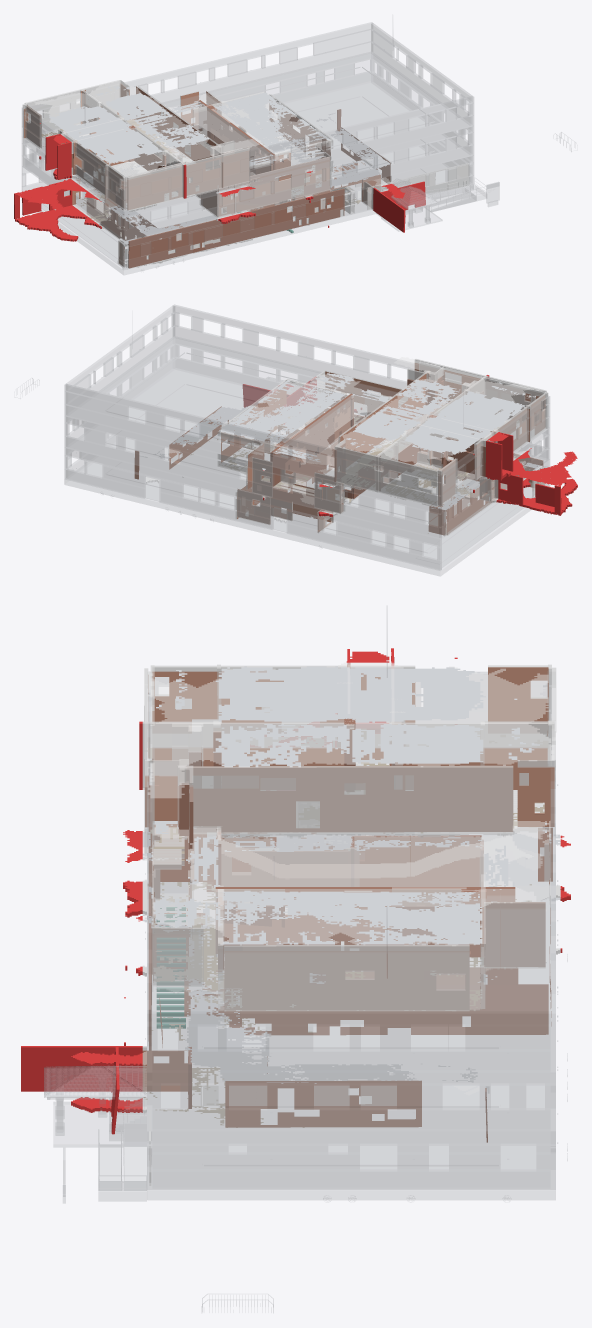
The model's file is volumen.glb.
The picture shows the model from 3 angles, top to bottom: view 1: azimuth 30°, elevation 25°; view 2: azimuth 150°, elevation 25°; view 3: azimuth 270°, elevation 25°; orthographic projection. The views are drawn at different scales.
Parts seen in each view (by area): view 1: Maqueta_Warm lime-painted plaster, Maqueta_V014 muted interior floor, C_CieloRaso_medido, A_Muro_M03_1_cuerpo, C_CieloRaso_supuesto, C_Muro_M07_0_cuerpo_supuesto, B_CieloRaso_zona2_supuesto, B_Muro_M13_0_cuerpo_supuesto, B_CieloRaso_zona2_medido, C_Muro_M07_0_cara_medida, B_Muro_M13_0_cara_medida, C_Muro_M17_0_cuerpo_supuesto (+31 smaller); view 2: Maqueta_Warm lime-painted plaster, Maqueta_V014 muted interior floor, C_CieloRaso_medido, C_CieloRaso_supuesto, B_CieloRaso_zona2_supuesto, B_CieloRaso_zona2_medido, C_Muro_M04_0_cuerpo_supuesto, B_Muro_M04_0_cuerpo, C_Muro_M17_0_cuerpo_supuesto, C_Muro_M05_0_cara_medida, A_CieloRaso_zona2_medido, B_Muro_M13_0_cara_medida (+37 smaller); view 3: Maqueta_V014 muted interior floor, Maqueta_Warm lime-painted plaster, C_Muro_M05_0_cuerpo_supuesto, C_CieloRaso_medido, B_CieloRaso_zona2_supuesto, C_Muro_M05_0_cara_medida, C_CieloRaso_supuesto, B_Muro_M05_0_cuerpo_supuesto, B_CieloRaso_zona2_medido, B_Muro_M05_0_cara_medida, A_Muro_M12_0_cara_medida, B_CieloRaso_zona1_supuesto (+35 smaller).
Part boxes in pixels (bbox=[...]): Maqueta_Warm lime-painted plaster: bbox=[22, 22, 473, 274]; Maqueta_V014 muted interior floor: bbox=[26, 53, 469, 264]; C_CieloRaso_medido: bbox=[49, 86, 209, 171]; A_Muro_M03_1_cuerpo: bbox=[128, 188, 344, 268]; C_CieloRaso_supuesto: bbox=[34, 80, 259, 176]; C_Muro_M07_0_cuerpo_supuesto: bbox=[127, 147, 250, 211]; B_CieloRaso_zona2_supuesto: bbox=[165, 93, 326, 166]; B_Muro_M13_0_cuerpo_supuesto: bbox=[217, 156, 330, 217]; B_CieloRaso_zona2_medido: bbox=[169, 92, 330, 166]; C_Muro_M07_0_cara_medida: bbox=[127, 151, 248, 209]; B_Muro_M13_0_cara_medida: bbox=[219, 157, 329, 215]; C_Muro_M17_0_cuerpo_supuesto: bbox=[58, 129, 125, 209]; Maqueta_Warm lime-painted plaster: bbox=[64, 304, 549, 576]; Maqueta_V014 muted interior floor: bbox=[69, 338, 545, 567]; C_CieloRaso_medido: bbox=[346, 379, 535, 455]; C_CieloRaso_supuesto: bbox=[336, 357, 541, 467]; B_CieloRaso_zona2_supuesto: bbox=[221, 373, 391, 476]; B_CieloRaso_zona2_medido: bbox=[219, 372, 445, 476]; C_Muro_M04_0_cuerpo_supuesto: bbox=[335, 446, 437, 506]; B_Muro_M04_0_cuerpo: bbox=[270, 393, 352, 486]; C_Muro_M17_0_cuerpo_supuesto: bbox=[475, 392, 547, 479]; C_Muro_M05_0_cara_medida: bbox=[340, 373, 429, 465]; A_CieloRaso_zona2_medido: bbox=[153, 416, 542, 510]; B_Muro_M13_0_cara_medida: bbox=[325, 371, 446, 415]; Maqueta_V014 muted interior floor: bbox=[152, 827, 550, 1168]; Maqueta_Warm lime-painted plaster: bbox=[147, 672, 555, 1199]; C_Muro_M05_0_cuerpo_supuesto: bbox=[178, 765, 513, 834]; C_CieloRaso_medido: bbox=[156, 666, 539, 767]; B_CieloRaso_zona2_supuesto: bbox=[152, 820, 549, 945]; C_Muro_M05_0_cara_medida: bbox=[187, 765, 512, 831]; C_CieloRaso_supuesto: bbox=[145, 662, 554, 798]; B_Muro_M05_0_cuerpo_supuesto: bbox=[224, 945, 469, 1011]; B_CieloRaso_zona2_medido: bbox=[153, 821, 546, 944]; B_Muro_M05_0_cara_medida: bbox=[224, 951, 469, 1009]; A_Muro_M12_0_cara_medida: bbox=[229, 984, 548, 1035]; B_CieloRaso_zona1_supuesto: bbox=[142, 830, 560, 919].
Size of the model in its own units: 68.51 by 17.12 by 30.92.
